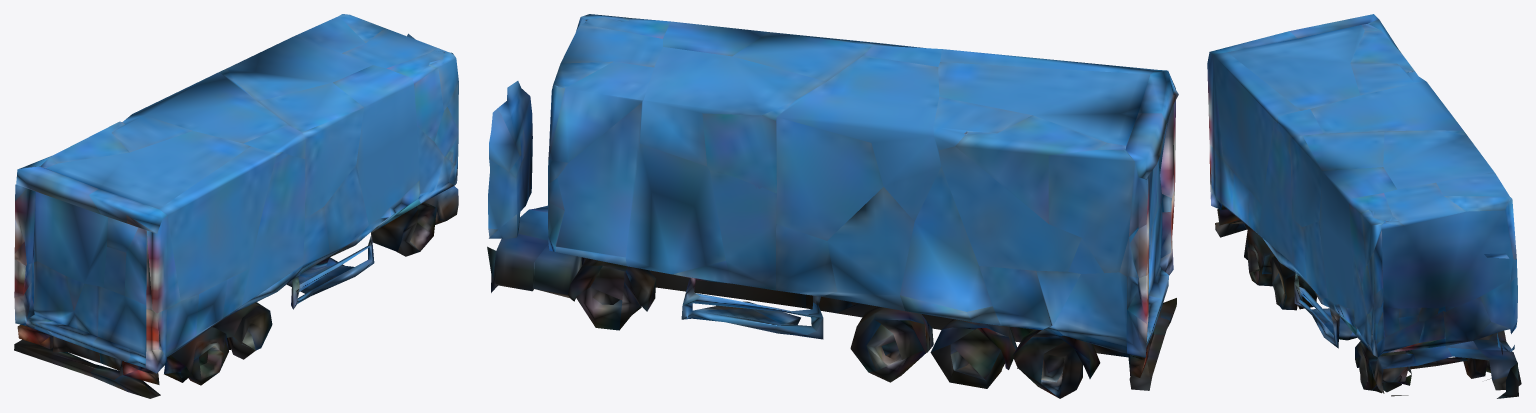
The model's file is veh-decktruck.glb.
3 views of the same model, side by side, from view 1: azimuth 30°, elevation 25°; view 2: azimuth 150°, elevation 25°; view 3: azimuth 270°, elevation 25° (orthographic). The views are drawn at different scales.
Parts seen in each view (by area): view 1: tripo_node_d5ba0f02-ae0b-45bc-b6e0-9cc4914389e2; view 2: tripo_node_d5ba0f02-ae0b-45bc-b6e0-9cc4914389e2; view 3: tripo_node_d5ba0f02-ae0b-45bc-b6e0-9cc4914389e2.
Boxes of the visible parts, box(x1,y1,x2,y2) form: tripo_node_d5ba0f02-ae0b-45bc-b6e0-9cc4914389e2: box(14, 14, 458, 398); tripo_node_d5ba0f02-ae0b-45bc-b6e0-9cc4914389e2: box(487, 14, 1178, 398); tripo_node_d5ba0f02-ae0b-45bc-b6e0-9cc4914389e2: box(1207, 14, 1521, 398).
Size of the model in its own units: 0.7413 by 0.3347 by 0.4428.
Materials: 1 (1 with a texture image).
